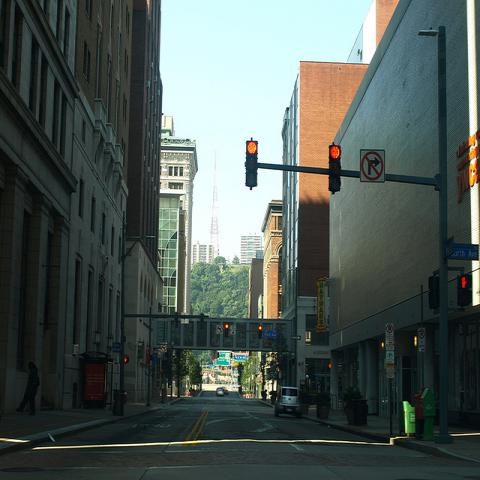car: (274, 386, 303, 418), (216, 388, 224, 395)
truck: (273, 386, 304, 418)
